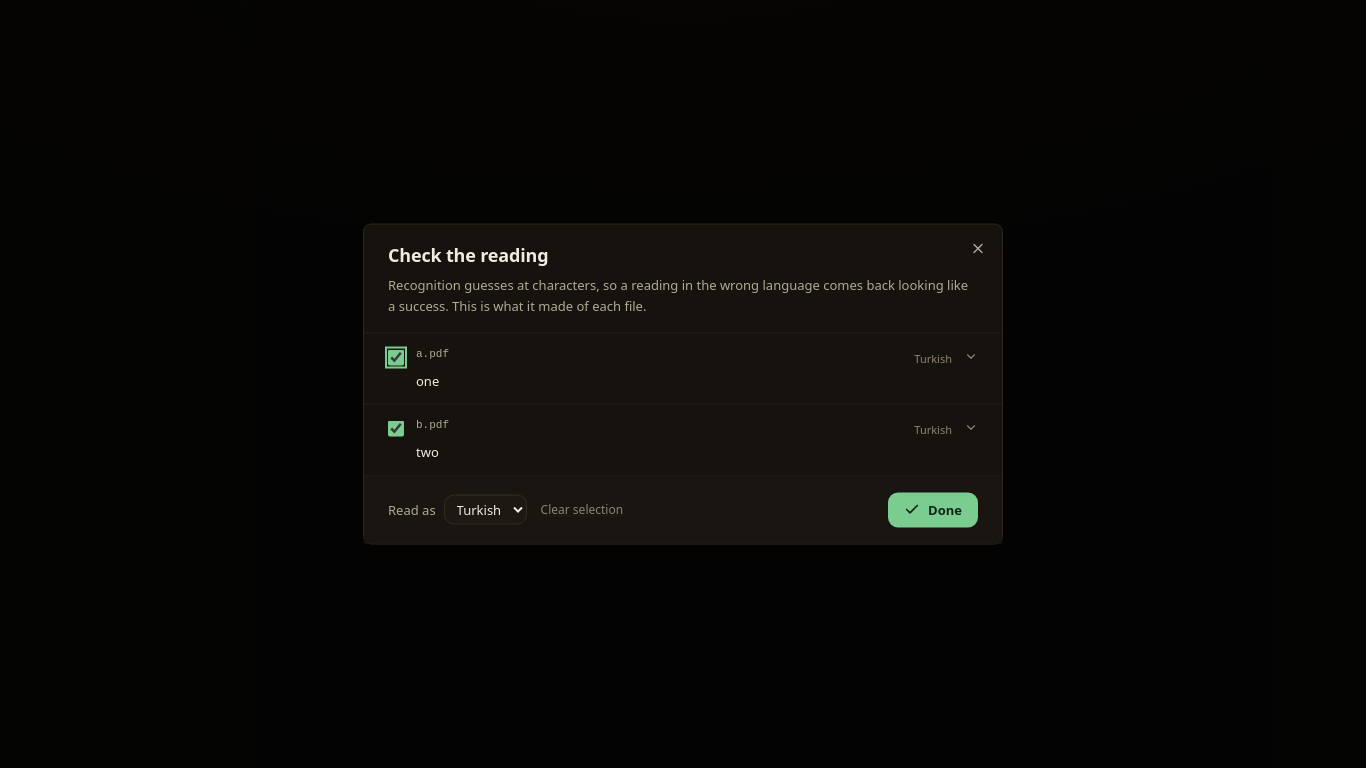
Test: the reading dialog › starts folded and never unfolds more than one at a time
Step 1. Click the button "a.pdf Turkish" → (433,354), box [416,346,978,367]
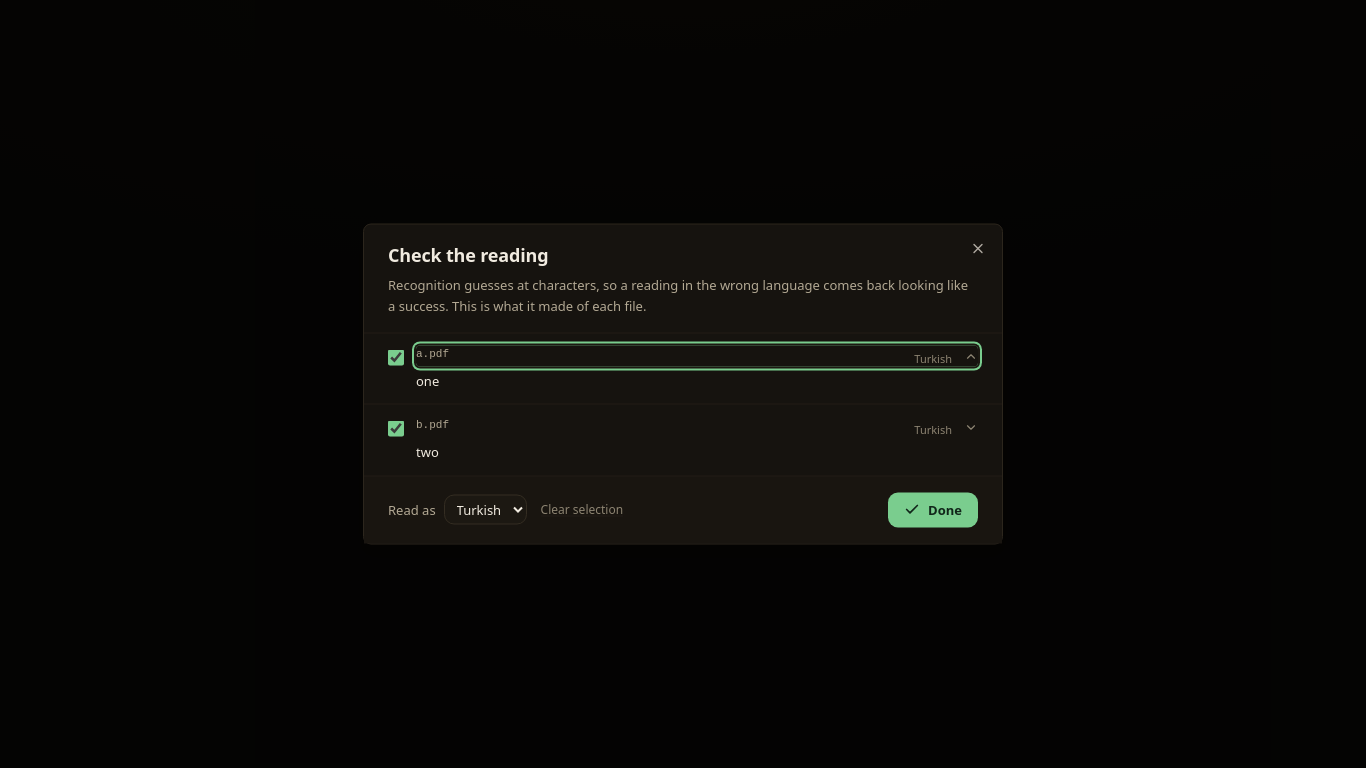
Result: the button "a.pdf Turkish" is expanded at [416,346,978,367]
Step 2. Click the button "b.pdf Turkish" → (433,425), box [416,417,978,438]
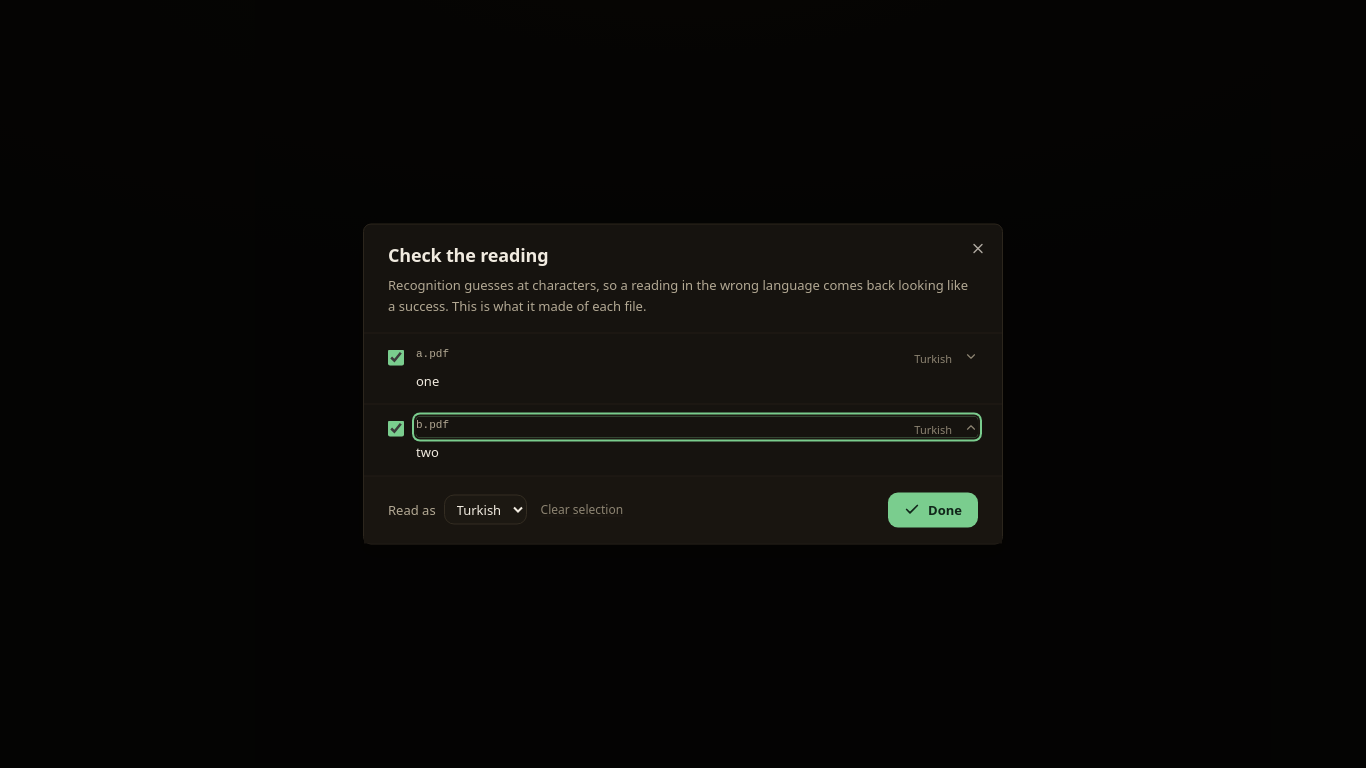
Result: the button "a.pdf Turkish" is collapsed at [416,346,978,367]
Result: the button "b.pdf Turkish" is expanded at [416,417,978,438]
